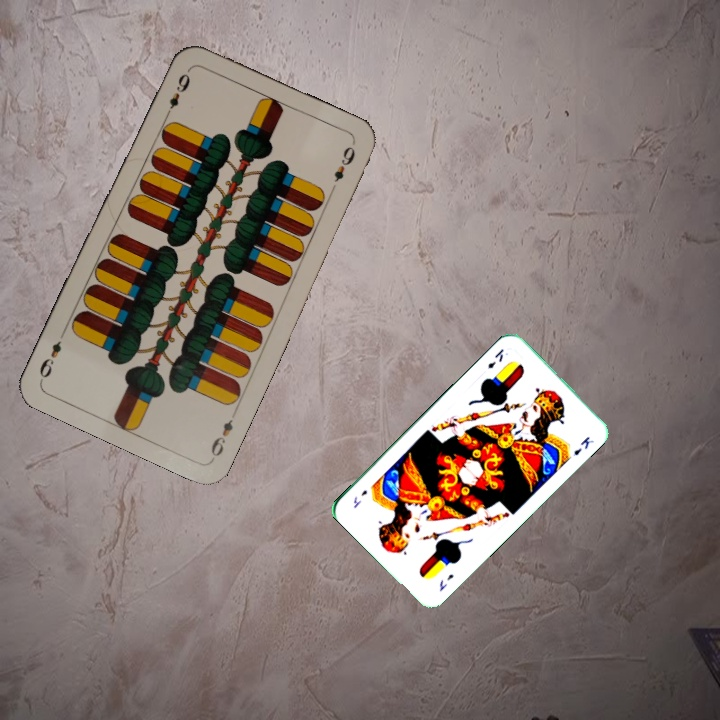E9: (161, 66, 193, 121), (206, 415, 236, 460)
EK: (484, 345, 506, 371), (435, 570, 456, 594)
